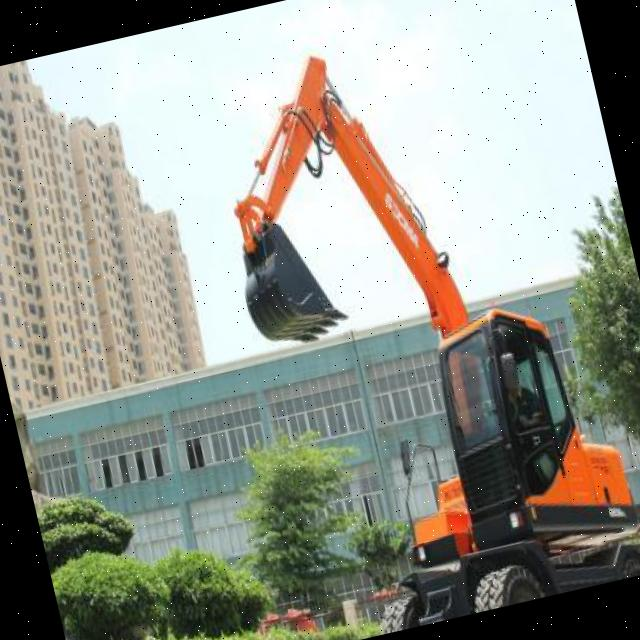Excavator: (185, 0, 640, 640)
